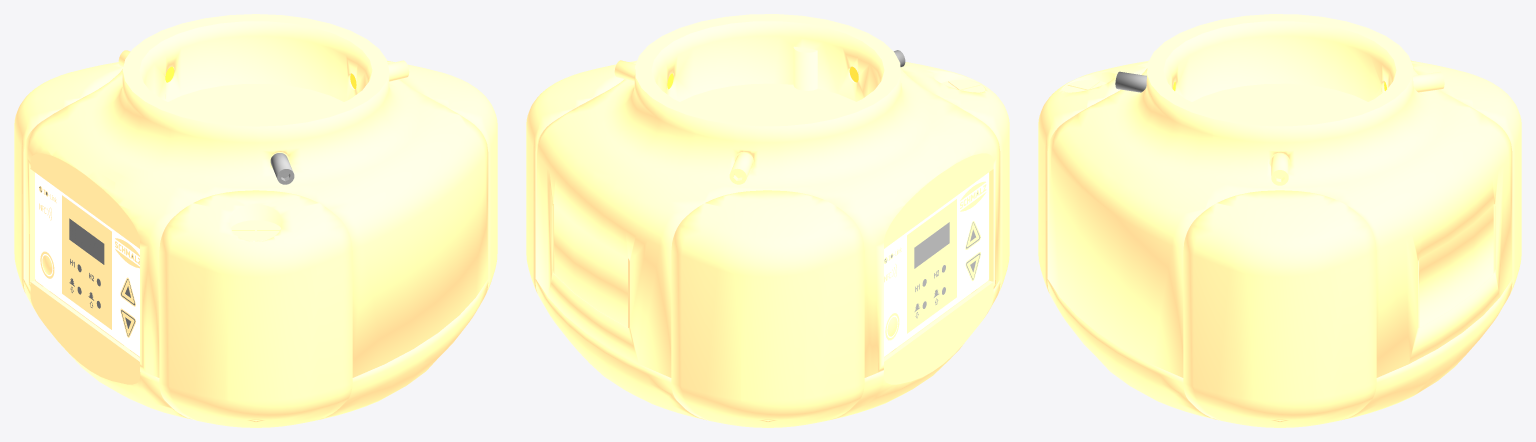
The model's file is pump.dae.
3 renders of one model, left to right at view 1: azimuth 30°, elevation 25°; view 2: azimuth 150°, elevation 25°; view 3: azimuth 270°, elevation 25°, orthographic.
Parts seen in each view (by area): view 1: Box.012, Box.008, Box.010, Box.011, Box.014, Box.019, Box.020; view 2: Box.012, Box.014, Box.010, Box.011, Box.008, Box.019, Box.005; view 3: Box.012, Box.019, Box.011, Box.014, Box.008, Box.020, Box.005, Box.004.
Part boxes in pixels (<box>): Box.012: <box>23,14,488,377</box>; Box.008: <box>159,190,352,427</box>; Box.010: <box>35,172,139,356</box>; Box.011: <box>23,279,488,420</box>; Box.014: <box>14,62,123,292</box>; Box.019: <box>387,61,497,292</box>; Box.020: <box>270,153,294,184</box>; Box.012: <box>535,14,1000,377</box>; Box.014: <box>671,190,864,427</box>; Box.010: <box>884,172,988,356</box>; Box.011: <box>535,279,1000,420</box>; Box.008: <box>900,62,1009,291</box>; Box.019: <box>526,60,636,292</box>; Box.005: <box>729,152,753,184</box>; Box.012: <box>1047,14,1512,377</box>; Box.019: <box>1183,190,1376,427</box>; Box.011: <box>1047,279,1512,420</box>; Box.014: <box>1411,60,1521,292</box>; Box.008: <box>1038,60,1148,292</box>; Box.020: <box>1115,71,1175,92</box>; Box.005: <box>1384,71,1444,92</box>; Box.004: <box>1271,153,1288,185</box>.
Size of the model in its own units: 0.1319 by 0.1378 by 0.0886.
